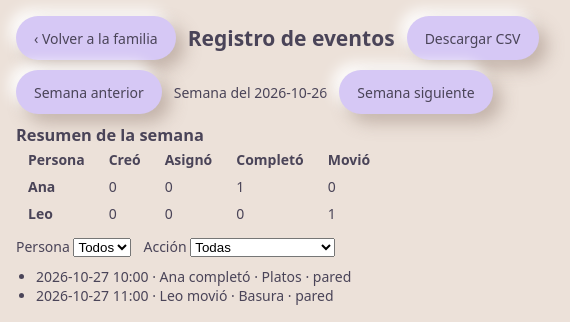
Test: lista, resumen y filtros por persona y acción
Expected: the number of list items is 2, x1=36 y1=267 x2=351 y2=286; x1=36 y1=286 x2=334 y2=305
Select "Leo" in the dropdown labelled "Persona" at (102, 248), box x1=74 y1=238 x2=132 y2=257
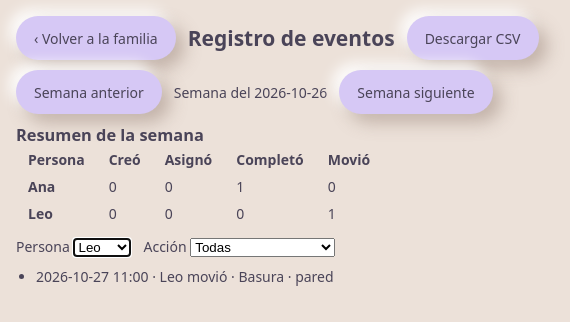
Now the number of list items is 1, box x1=36 y1=267 x2=334 y2=286
Select "completó" in the dropdown labelled "Acción" at (263, 248), box x1=190 y1=238 x2=335 y2=257
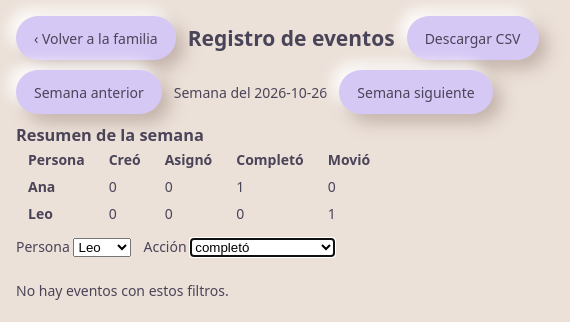
Now the text "No hay eventos con estos filtros." is shown, box x1=16 y1=281 x2=229 y2=300
